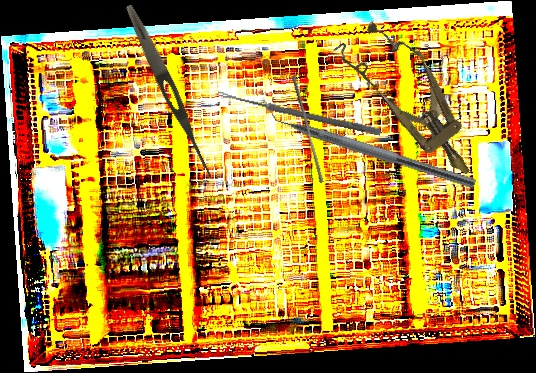Chopper: (255, 98, 482, 189)
Dressing Forceps: (121, 2, 219, 180)
Pusher: (287, 74, 328, 184)
Speculum: (331, 8, 496, 195)
Surgical Spoon: (216, 90, 382, 136)
